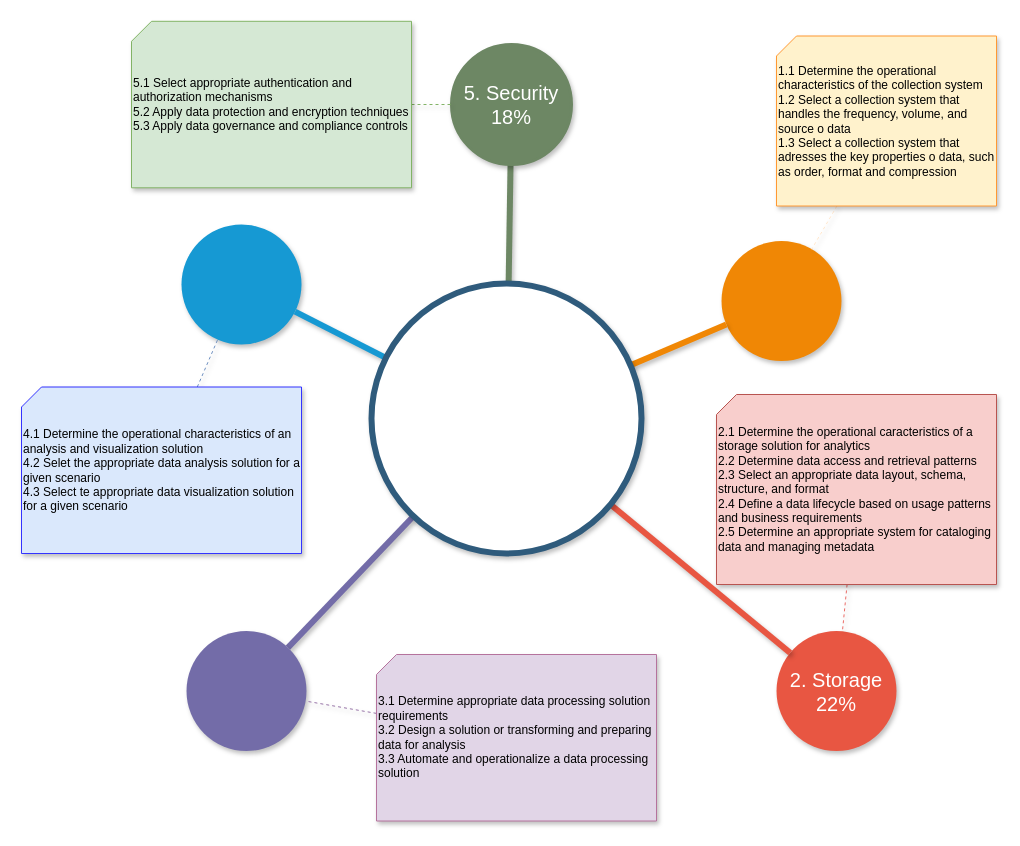
Some shapes in this 1020 by 846 pixel diagram are drawn without their labels. Here are the shapes that lost their labels. From the top down, the centre of each, then its label:
At point (242, 285): "4. Analysis & Visualization 18%".
At point (782, 302): "1. Collection 18%".
At point (507, 419): "AWS Data & Analytics Specialty Certified".
At point (247, 692): "3. Processing 24%".
